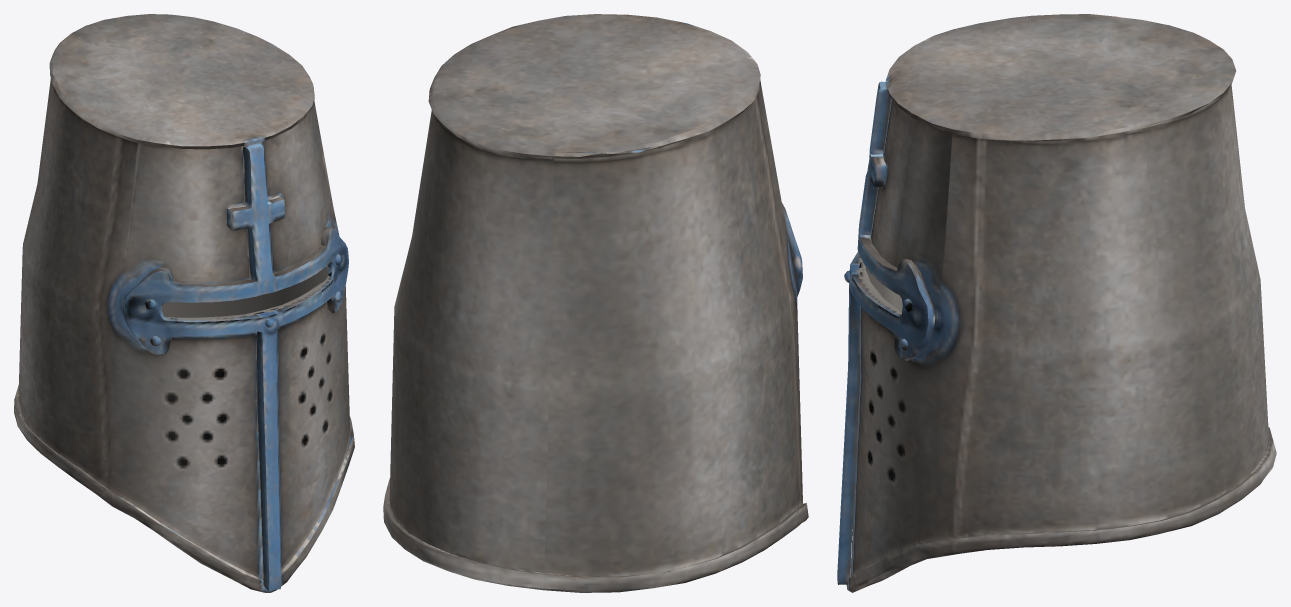
File: item_mm9_10226.glb
3 renders of one model, left to right at view 1: azimuth 30°, elevation 25°; view 2: azimuth 150°, elevation 25°; view 3: azimuth 270°, elevation 25°, orthographic. The views are drawn at different scales.
Visible parts, largest first — view 1: d10226; view 2: d10226; view 3: d10226.
Part boxes in pixels (x1=…): d10226: x1=14, y1=14, x2=354, y2=592; d10226: x1=383, y1=14, x2=808, y2=592; d10226: x1=837, y1=14, x2=1276, y2=592.
Bounding box in the file's own units: 0.6533 × 1 × 0.7649.
Materials: 1 (1 with a texture image).
